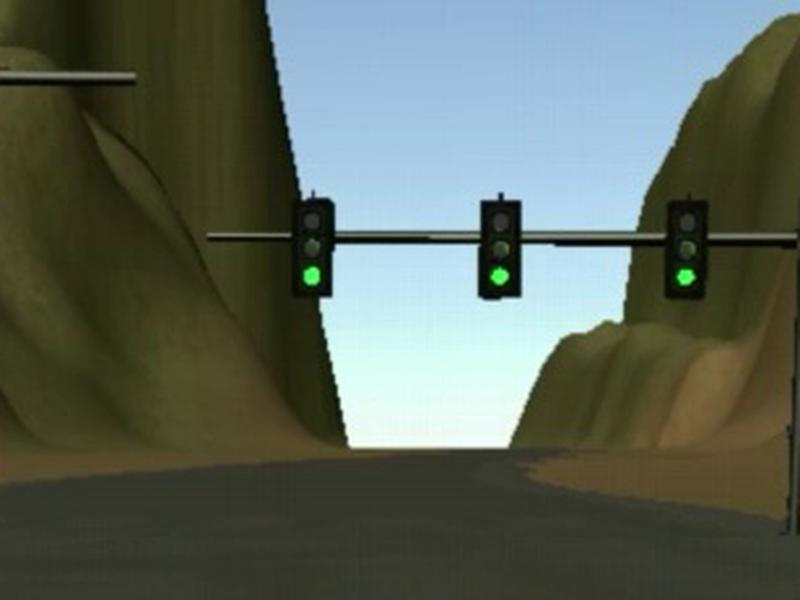Green: (291, 197, 336, 298), (477, 201, 521, 297), (664, 201, 707, 299)
